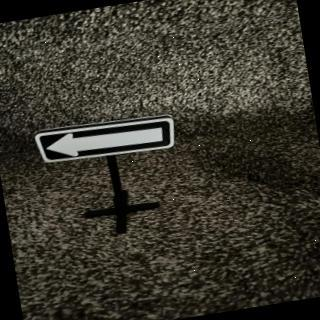sign_oneway_left: (35, 111, 180, 172)
